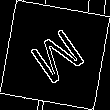M_SE: (22, 21, 88, 89)
